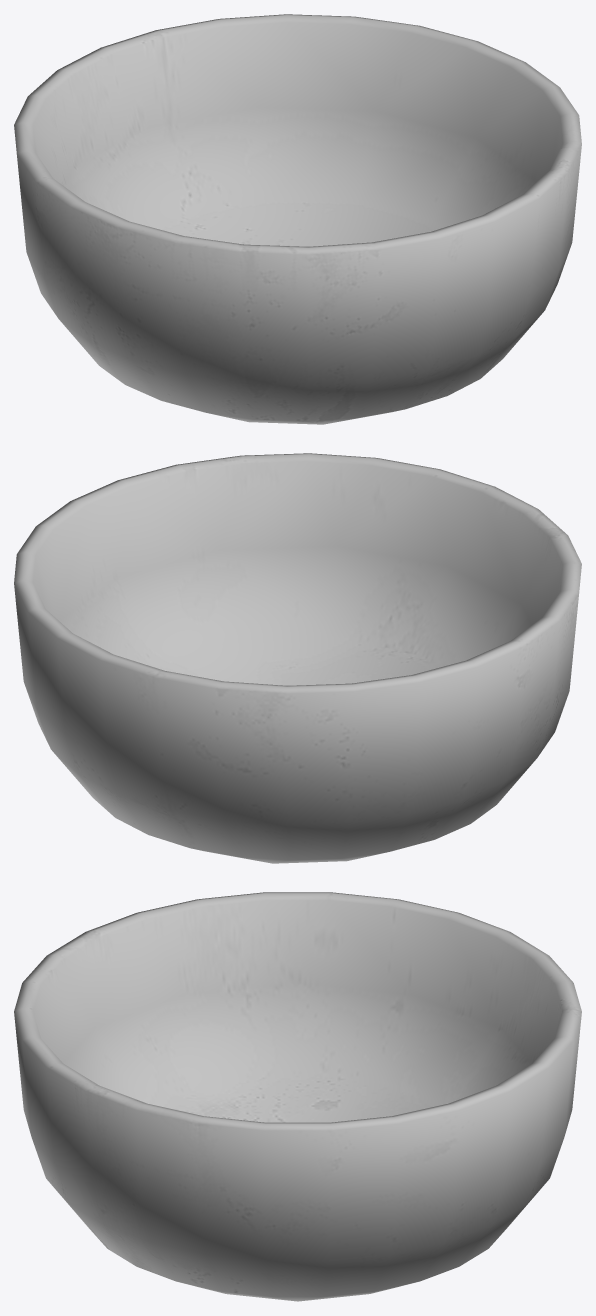
File: SM_Dishes_A2.fbx
3 renders of one model, top to bottom at view 1: azimuth 30°, elevation 25°; view 2: azimuth 150°, elevation 25°; view 3: azimuth 270°, elevation 25°, orthographic.
Visible parts, largest first — view 1: SM_Dishes_A2; view 2: SM_Dishes_A2; view 3: SM_Dishes_A2.
Part boxes in pixels (x1,y1,x2,y2): SM_Dishes_A2: (14,14,581,424); SM_Dishes_A2: (14,453,581,863); SM_Dishes_A2: (14,892,581,1301).
Bounding box in the file's own units: 16.37 × 16.49 × 7.44.
Materials: 1 (1 with a texture image).
